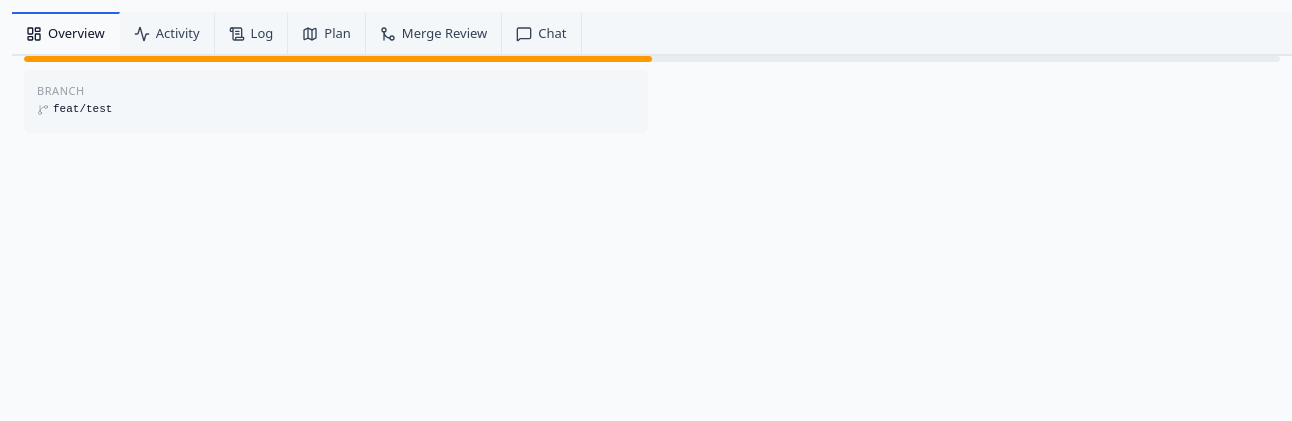
FeatureDrawerTabs › merge-review readOnly prop threading › does not pass readOnly when lifecycle=review (action bar present)
The width and height of the screenshot is (1292, 421).
Click the tab "Merge Review" at (434, 33), box 366,12 -> 502,54
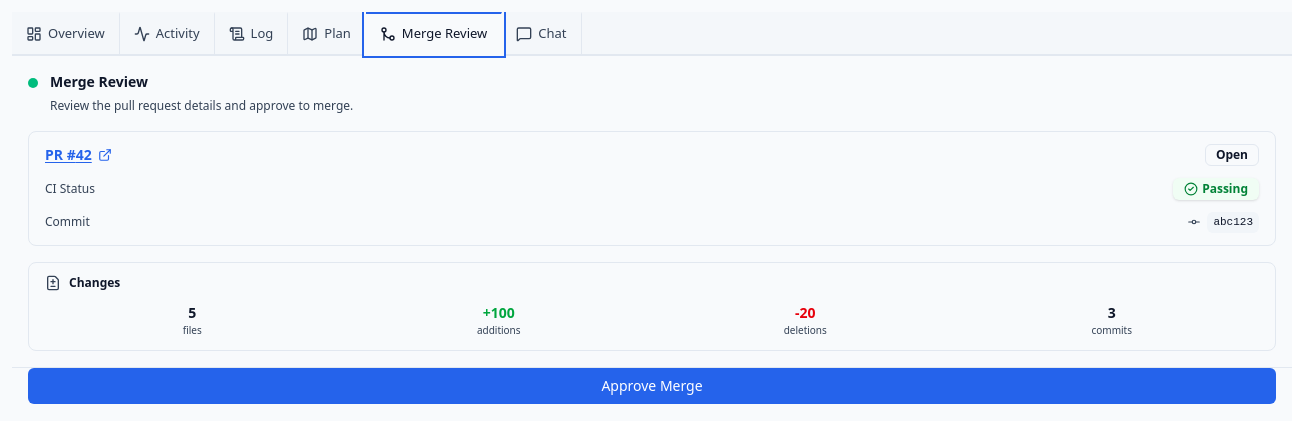
Check: the heading "Merge Review" is shown, box 50,72 -> 148,90
Check: the link "PR #42" is shown, box 45,145 -> 112,165
